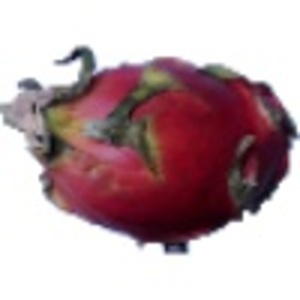pitaia: (1, 47, 300, 263)
